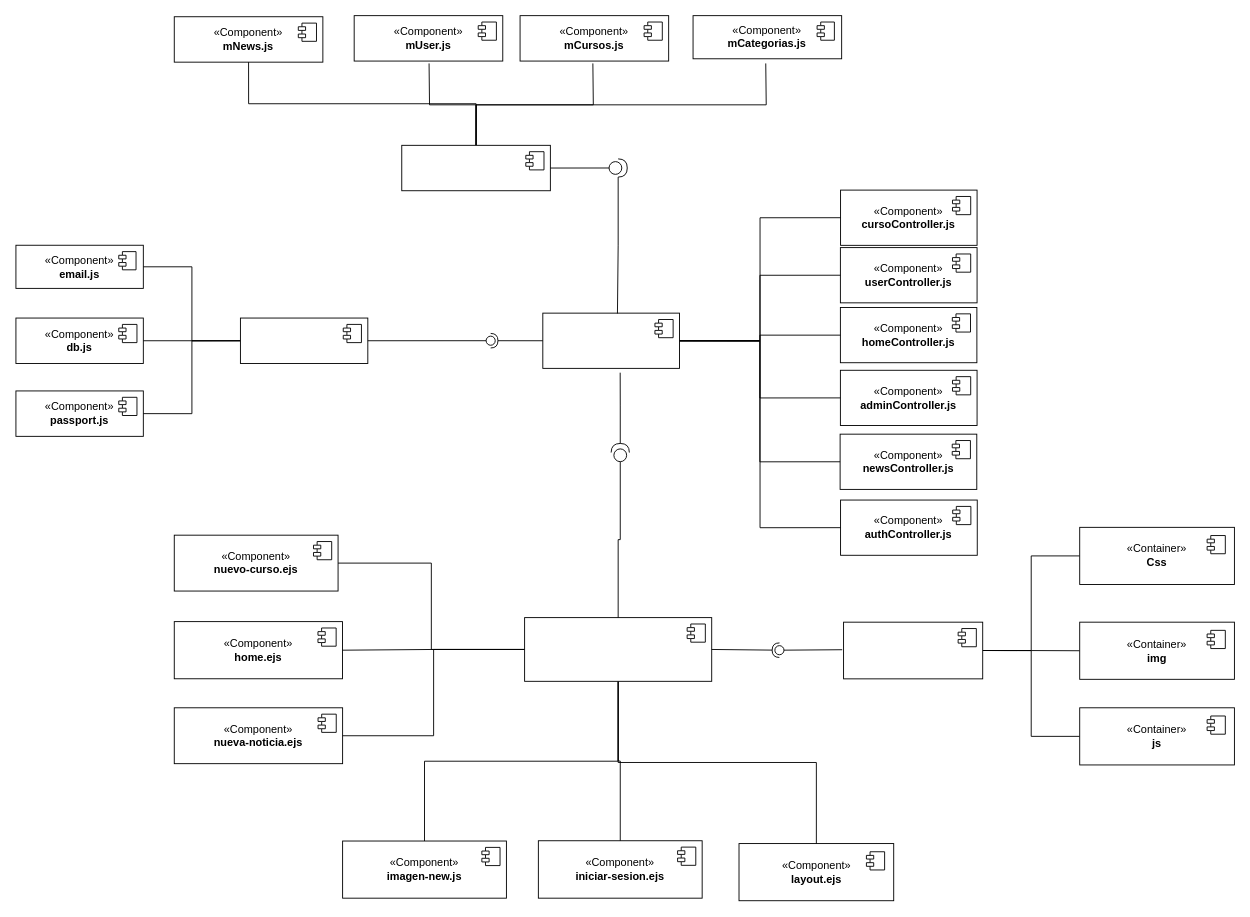
Some shapes in this 1250 by 917 pixel diagram are drawn without their labels. The shapes that lost their labels are listed below. From the top down, each one's centre as x and y in pixels, then its label:
(475,167): «Container » Models
(304,340): «Container » Config
(610,340): «Container» Controllers
(618,649): «Container» Views
(913,650): «Container» Public
